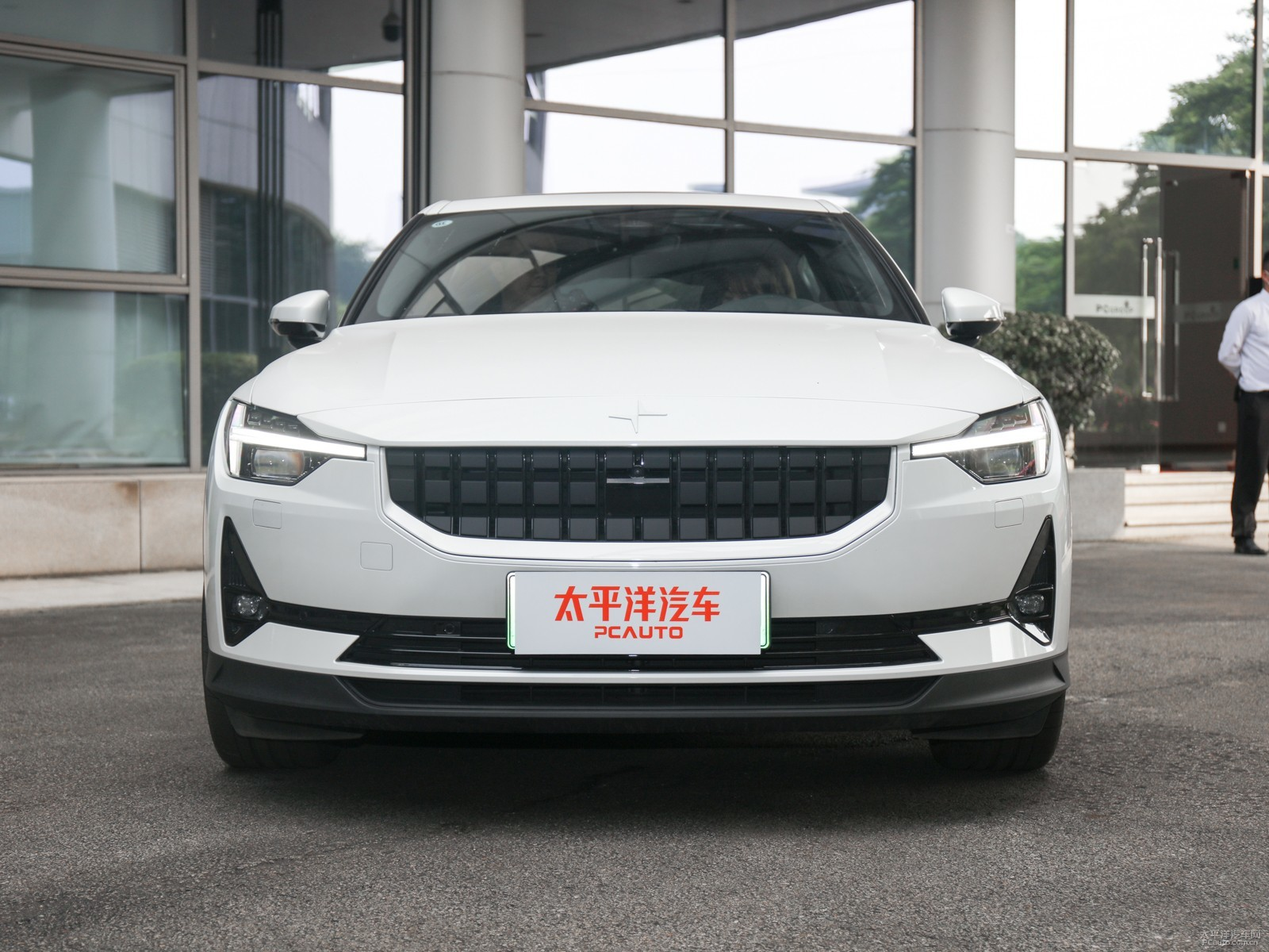Polestar: (608, 398, 667, 433)
